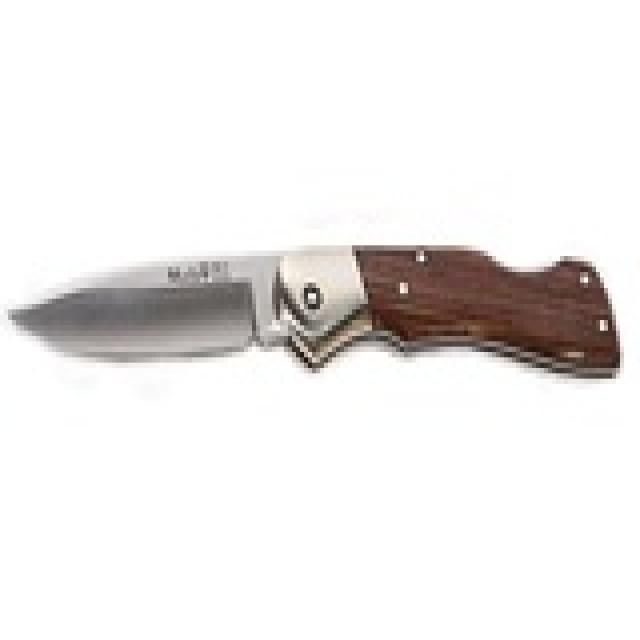Knife: (1, 233, 631, 392)
